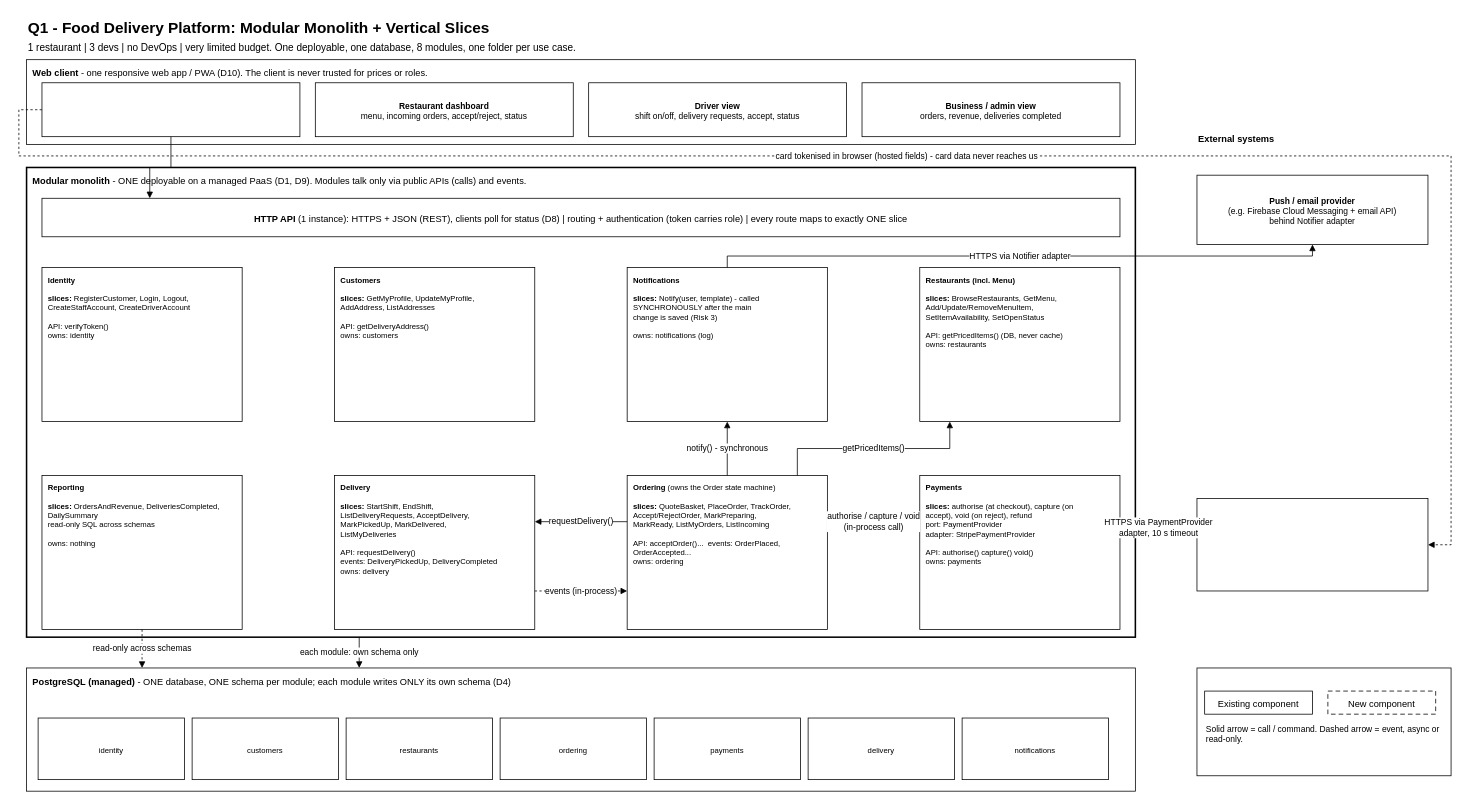
Some shapes in this 1471 by 805 pixel diagram are drawn without their labels. The shapes that lost their labels are listed below. From the top down, each one's box as (x1, y1, x2, y2) in pixels, then its label:
(41, 82, 300, 137): Customer view browse, basket, place order, track, history
(1196, 498, 1428, 591): Payment provider (e.g. Stripe) hosted card fields, manual capture
(1196, 667, 1451, 776): Legend
